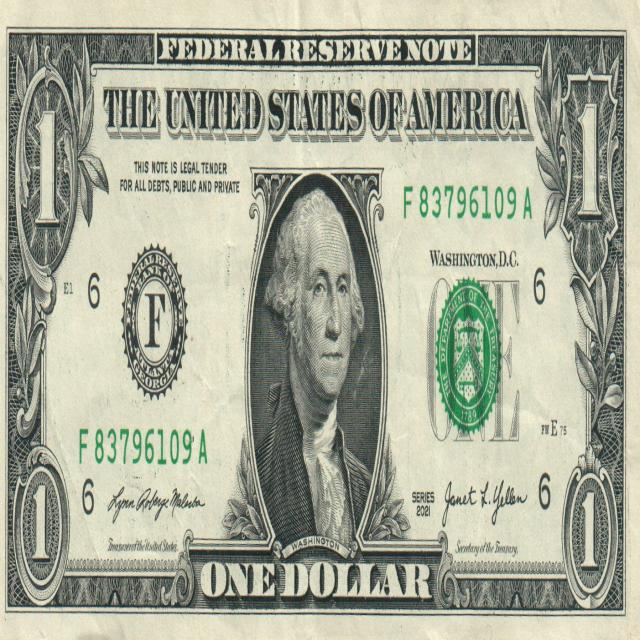SerialNumber: (80, 429, 207, 465), (404, 186, 531, 219)
